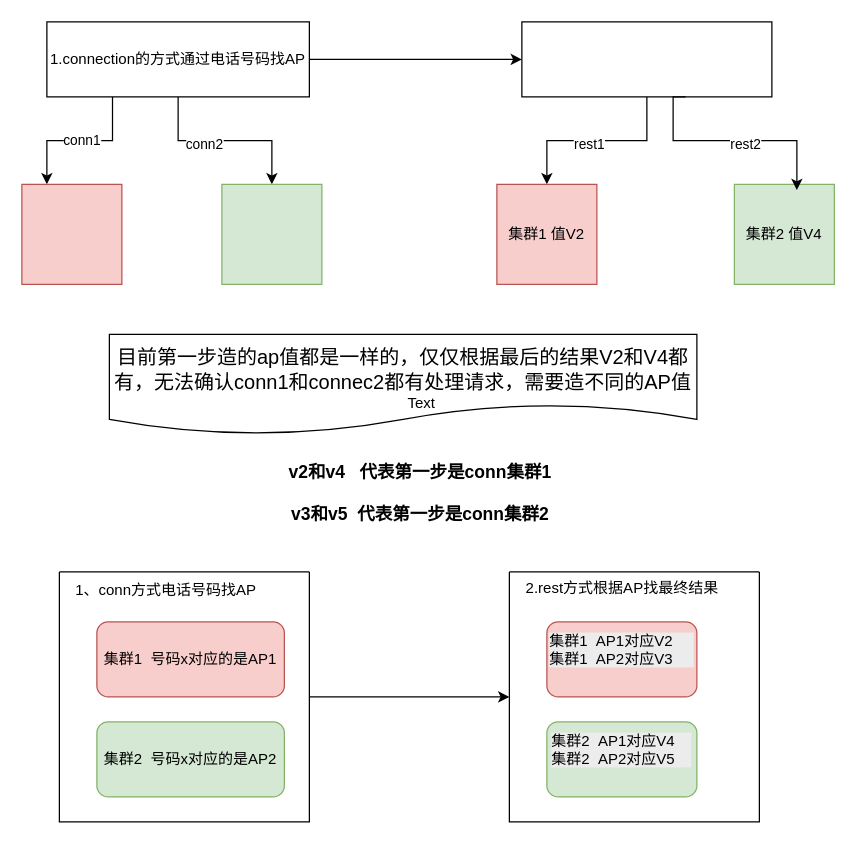
Image size: 856x844. Some labels were removed from this diagram. The centre of each missing label's shape, as x and y in pixels:
2.rest的方式通过AP查询结果表 （已经证明了可以负载均衡）: the point at 646,59
集群1 ap值1: the point at 71,233
集群2 ap值2: the point at 271,233
